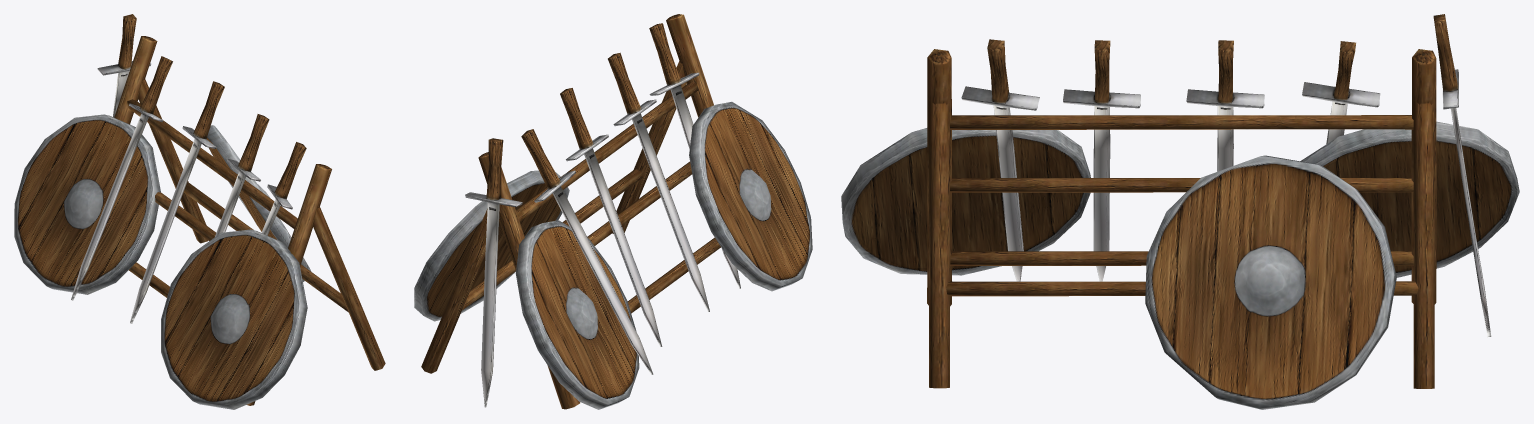
File: armor.FBX
The picture shows the model from 3 angles, left to right: view 1: azimuth 30°, elevation 25°; view 2: azimuth 150°, elevation 25°; view 3: azimuth 270°, elevation 25°; orthographic projection. The views are drawn at different scales.
Visible parts, largest first — view 1: armor; view 2: armor; view 3: armor.
Part boxes in pixels (x1,y1,x2,y2): armor: (14,14,385,409); armor: (414,14,812,409); armor: (841,14,1519,409).
Size of the model in its own units: 19.81 by 20.29 by 37.36.
